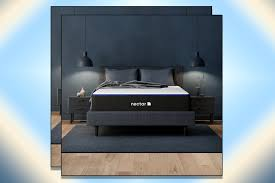bed-matress: (89, 76, 193, 113)
